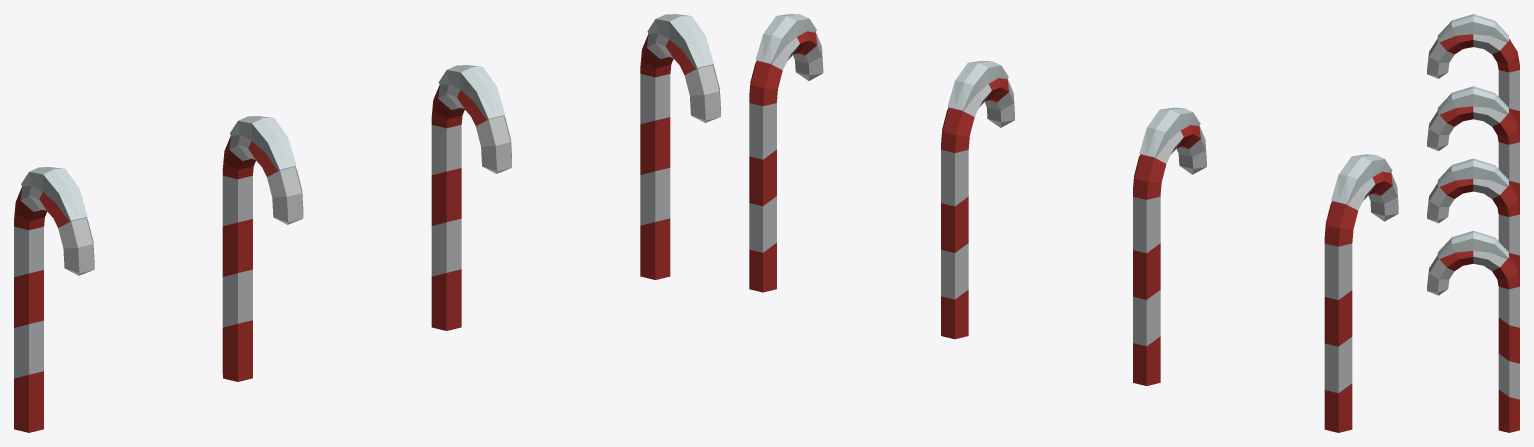
Rendered from candy-cane-path-markers-2310e4.glb.
3 views of the same model, side by side, from view 1: azimuth 30°, elevation 25°; view 2: azimuth 150°, elevation 25°; view 3: azimuth 270°, elevation 25° (orthographic). The views are drawn at different scales.
Visible parts, largest first — view 1: candy-canes; view 2: candy-canes; view 3: candy-canes.
Boxes of the visible parts, left/top/right/bottom form: candy-canes: left=14, top=14, right=720, bottom=432; candy-canes: left=749, top=14, right=1398, bottom=432; candy-canes: left=1427, top=14, right=1519, bottom=432.
Bounding box in the file's own units: 1.57 × 0.6295 × 0.2715.
